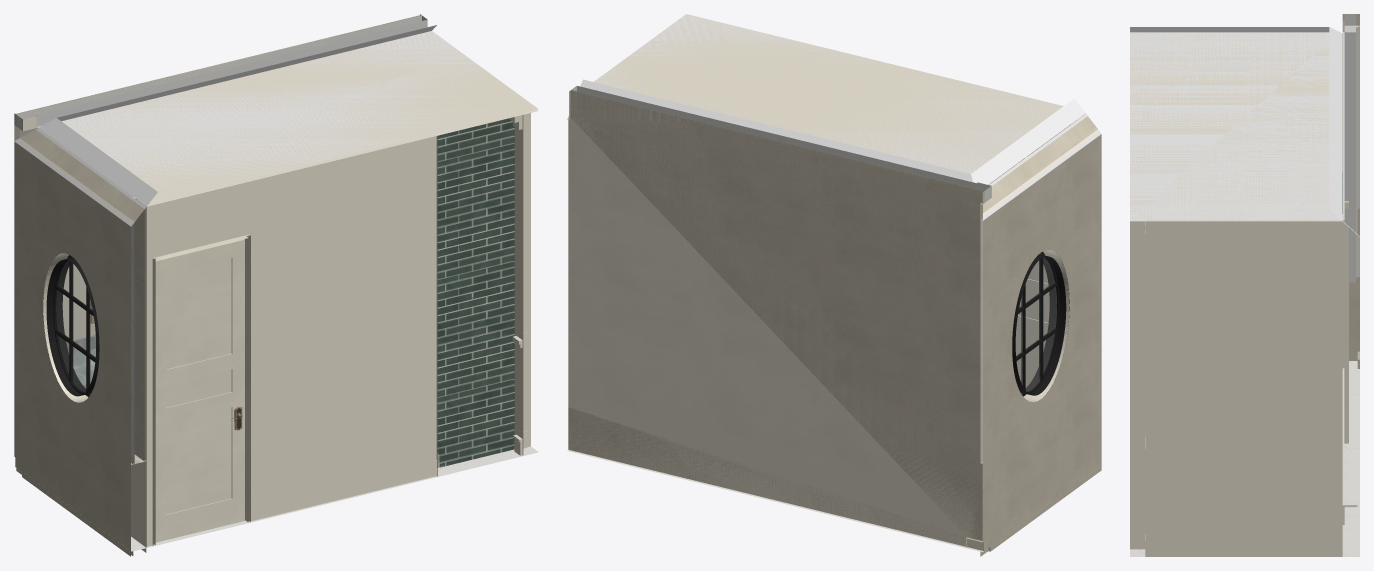
Rendered from green-bath-051723221702.glb.
3 views of the same model, side by side, from view 1: azimuth 30°, elevation 25°; view 2: azimuth 150°, elevation 25°; view 3: azimuth 270°, elevation 25° (orthographic). The views are drawn at different scales.
Visible parts, largest first — view 1: green-bath-b6ab44e8ab2b63f4, green-bath-e8793759323e04f0, green-bath-9d91b47435c6fb33, green-bath-235bf0030923b7b8, green-bath-5e646f76b0244fe8, green-bath-312b4ac1be39223d, green-bath-33ee0b466567e5f0, green-bath-9a6873bb27e0e1d8, green-bath-8d8280a2b3ef8b4c, green-bath-ab9cb37e14e8bf16, green-bath-3a4d9d62ecd7be1c, green-bath-39b94aca90fa4b53 (+7 smaller); view 2: green-bath-bd62734a7bc60eb7, green-bath-ca9c0b57f88e5741, green-bath-e8793759323e04f0, green-bath-312b4ac1be39223d, green-bath-9d91b47435c6fb33, green-bath-33ee0b466567e5f0, green-bath-ab9cb37e14e8bf16, green-bath-9a6873bb27e0e1d8, green-bath-af51553f3bbf098a, green-bath-39b94aca90fa4b53, green-bath-5e646f76b0244fe8, green-bath-80d7956de169033e (+1 smaller); view 3: green-bath-4fe5579be934d30a, green-bath-9d91b47435c6fb33, green-bath-e8793759323e04f0, green-bath-689020e0fc226264, green-bath-6ffca0ecbe7bb20f, green-bath-39b94aca90fa4b53, green-bath-7261ca91c9d343ad, green-bath-9a6873bb27e0e1d8, green-bath-82fe871d7bda5383, green-bath-312b4ac1be39223d, green-bath-6852ef8a5e690845, green-bath-bd62734a7bc60eb7 (+1 smaller).
Boxes of the visible parts, x1,y1,x2,y2 form: green-bath-b6ab44e8ab2b63f4: (138, 136, 437, 547); green-bath-e8793759323e04f0: (42, 25, 538, 204); green-bath-9d91b47435c6fb33: (39, 31, 537, 206); green-bath-235bf0030923b7b8: (437, 118, 513, 467); green-bath-5e646f76b0244fe8: (155, 239, 244, 542); green-bath-312b4ac1be39223d: (14, 125, 133, 464); green-bath-33ee0b466567e5f0: (22, 386, 146, 556); green-bath-9a6873bb27e0e1d8: (16, 15, 427, 471); green-bath-8d8280a2b3ef8b4c: (515, 109, 538, 455); green-bath-ab9cb37e14e8bf16: (43, 254, 99, 397); green-bath-3a4d9d62ecd7be1c: (35, 127, 146, 461); green-bath-39b94aca90fa4b53: (19, 128, 144, 463); green-bath-bd62734a7bc60eb7: (567, 91, 983, 547); green-bath-ca9c0b57f88e5741: (568, 90, 984, 550); green-bath-e8793759323e04f0: (580, 14, 1083, 183); green-bath-312b4ac1be39223d: (981, 131, 1101, 463); green-bath-9d91b47435c6fb33: (594, 14, 1085, 184); green-bath-33ee0b466567e5f0: (988, 377, 1101, 551); green-bath-ab9cb37e14e8bf16: (1012, 252, 1069, 397); green-bath-9a6873bb27e0e1d8: (571, 86, 990, 550); green-bath-af51553f3bbf098a: (1016, 253, 1056, 393); green-bath-39b94aca90fa4b53: (982, 116, 1097, 213); green-bath-5e646f76b0244fe8: (988, 163, 1049, 387); green-bath-80d7956de169033e: (1012, 249, 1069, 402); green-bath-4fe5579be934d30a: (1145, 214, 1342, 556); green-bath-9d91b47435c6fb33: (1130, 32, 1342, 221); green-bath-e8793759323e04f0: (1130, 27, 1340, 219); green-bath-689020e0fc226264: (1130, 221, 1145, 549); green-bath-6ffca0ecbe7bb20f: (1130, 361, 1359, 556); green-bath-39b94aca90fa4b53: (1344, 28, 1355, 282); green-bath-7261ca91c9d343ad: (1344, 201, 1348, 443); green-bath-9a6873bb27e0e1d8: (1344, 14, 1355, 556); green-bath-82fe871d7bda5383: (1342, 14, 1344, 556); green-bath-312b4ac1be39223d: (1357, 26, 1359, 276); green-bath-6852ef8a5e690845: (1356, 27, 1357, 277); green-bath-bd62734a7bc60eb7: (1357, 14, 1359, 368).
Bounding box in the file's own units: 3.62 × 3.04 × 1.8.
Materials: 33 (6 with a texture image).
